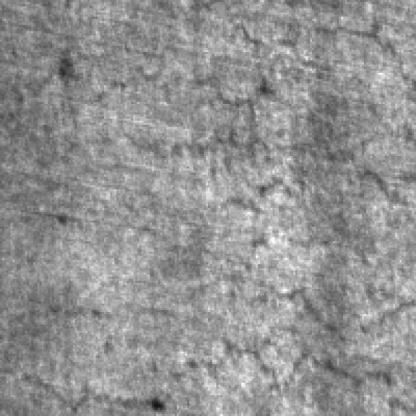crazing: (150, 218, 416, 389), (135, 96, 416, 208)
